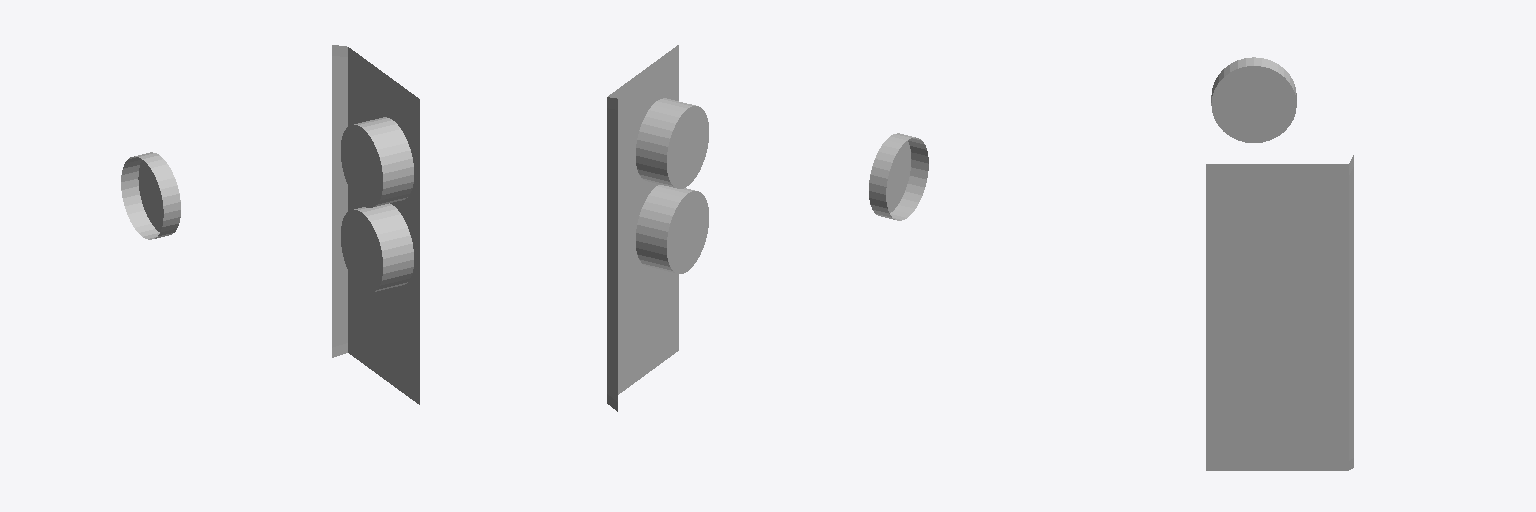
The model's file is pcmesh8.obj.
The picture shows the model from 3 angles: view 1: azimuth 30°, elevation 25°; view 2: azimuth 150°, elevation 25°; view 3: azimuth 270°, elevation 25°; orthographic projection.
Parts seen in each view (by area): view 1: model_4; view 2: model_4; view 3: model_4.
Boxes of the visible parts, box(x1,y1,x2,y2) form: model_4: box(121, 45, 419, 404); model_4: box(607, 45, 928, 411); model_4: box(1206, 57, 1353, 470).
Size of the model in its own units: 1.45 by 1.71 by 0.7352.